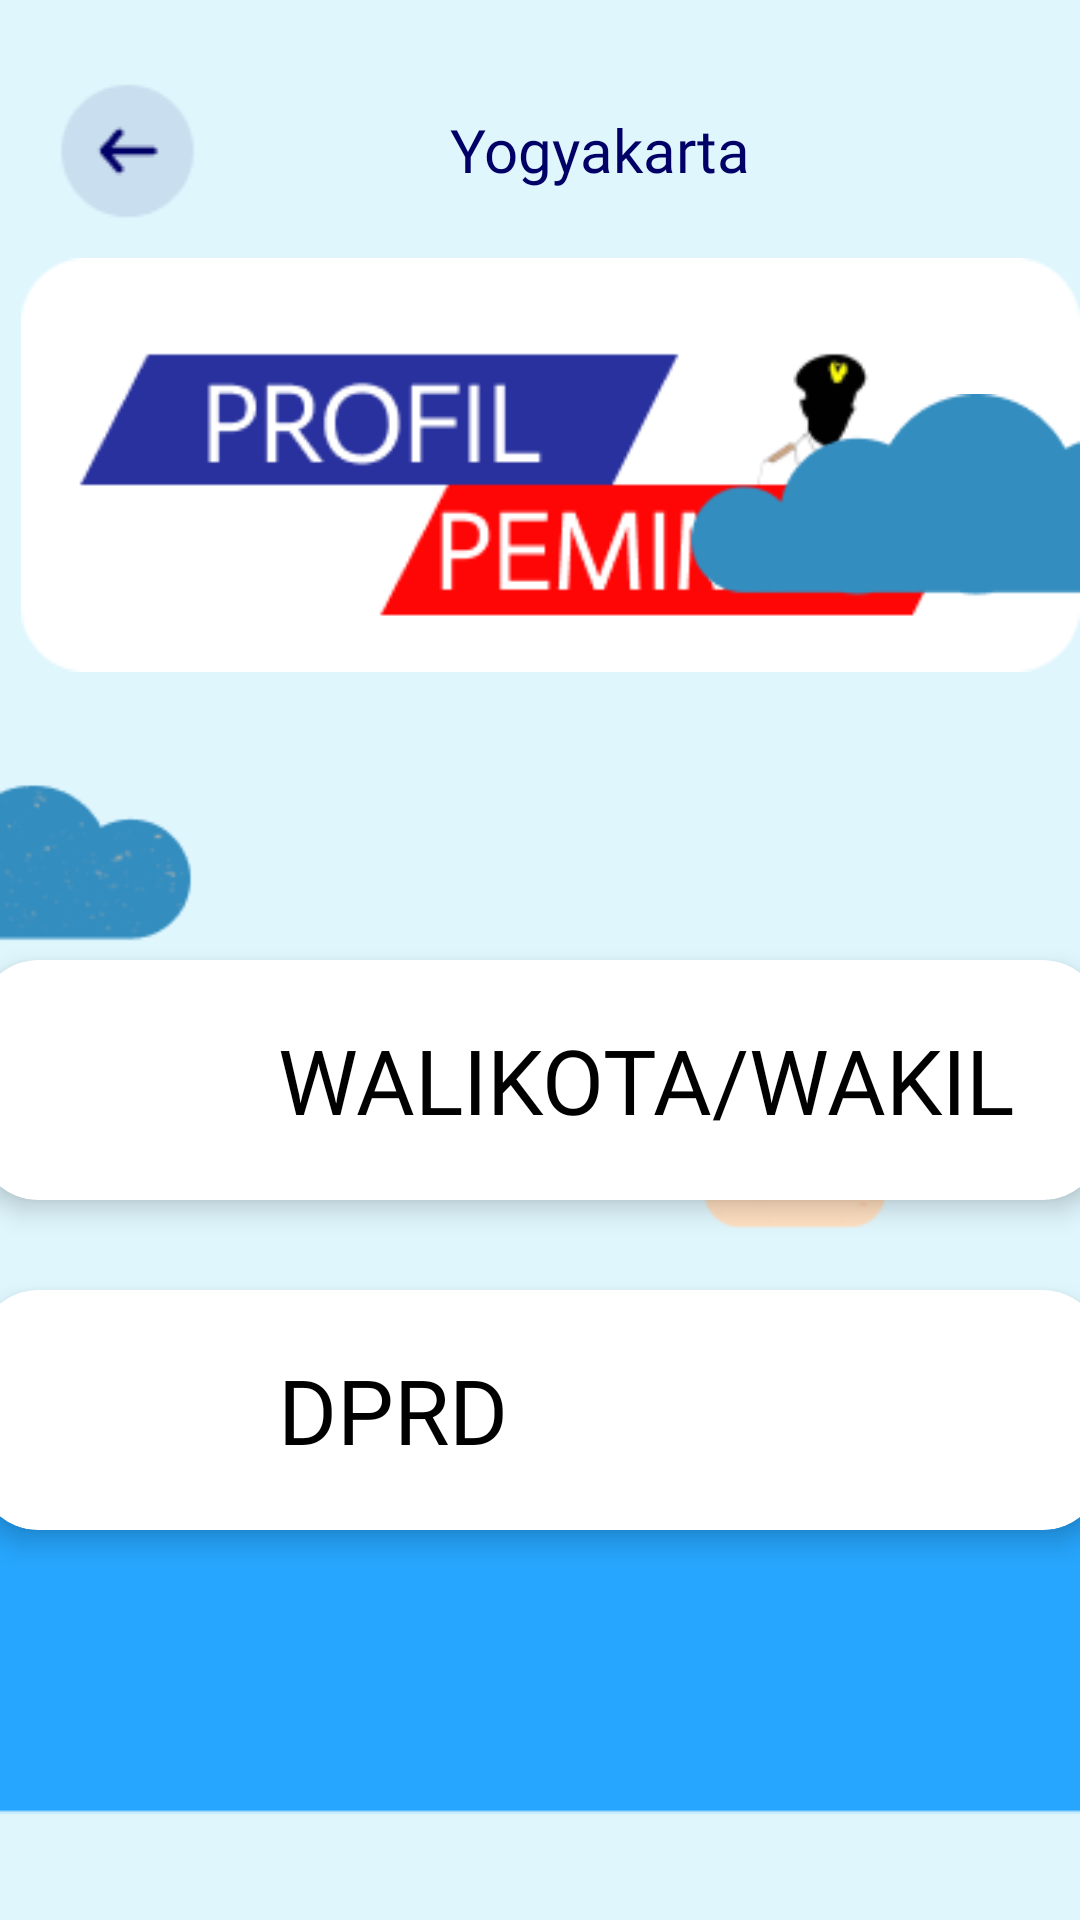

Icons on this 1080 × 1920 Android screen, each with the point to tap as [x,y]:
back: [127,151]
